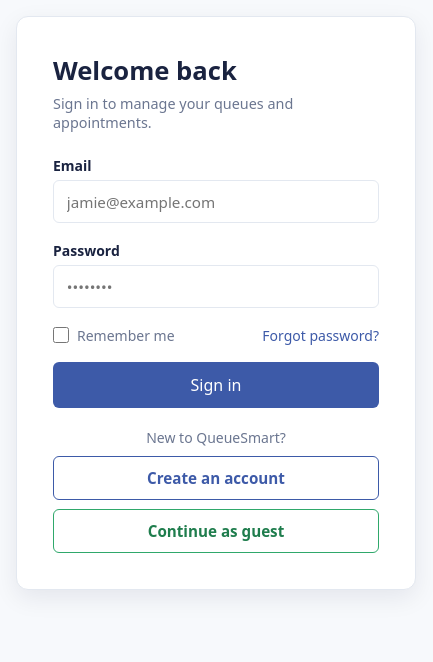
Scenario: Login form › blocks submission and shows the original messages when empty
Click the button "Sign in". click: (216, 385)
box: [53, 362, 379, 408]
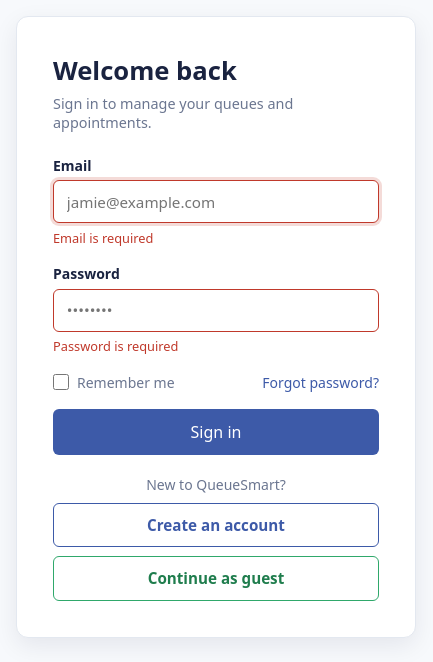
Expected: the text "Email is required" is shown, [53, 229, 153, 247]
Expected: the text "Password is required" is shown, [53, 337, 178, 355]
